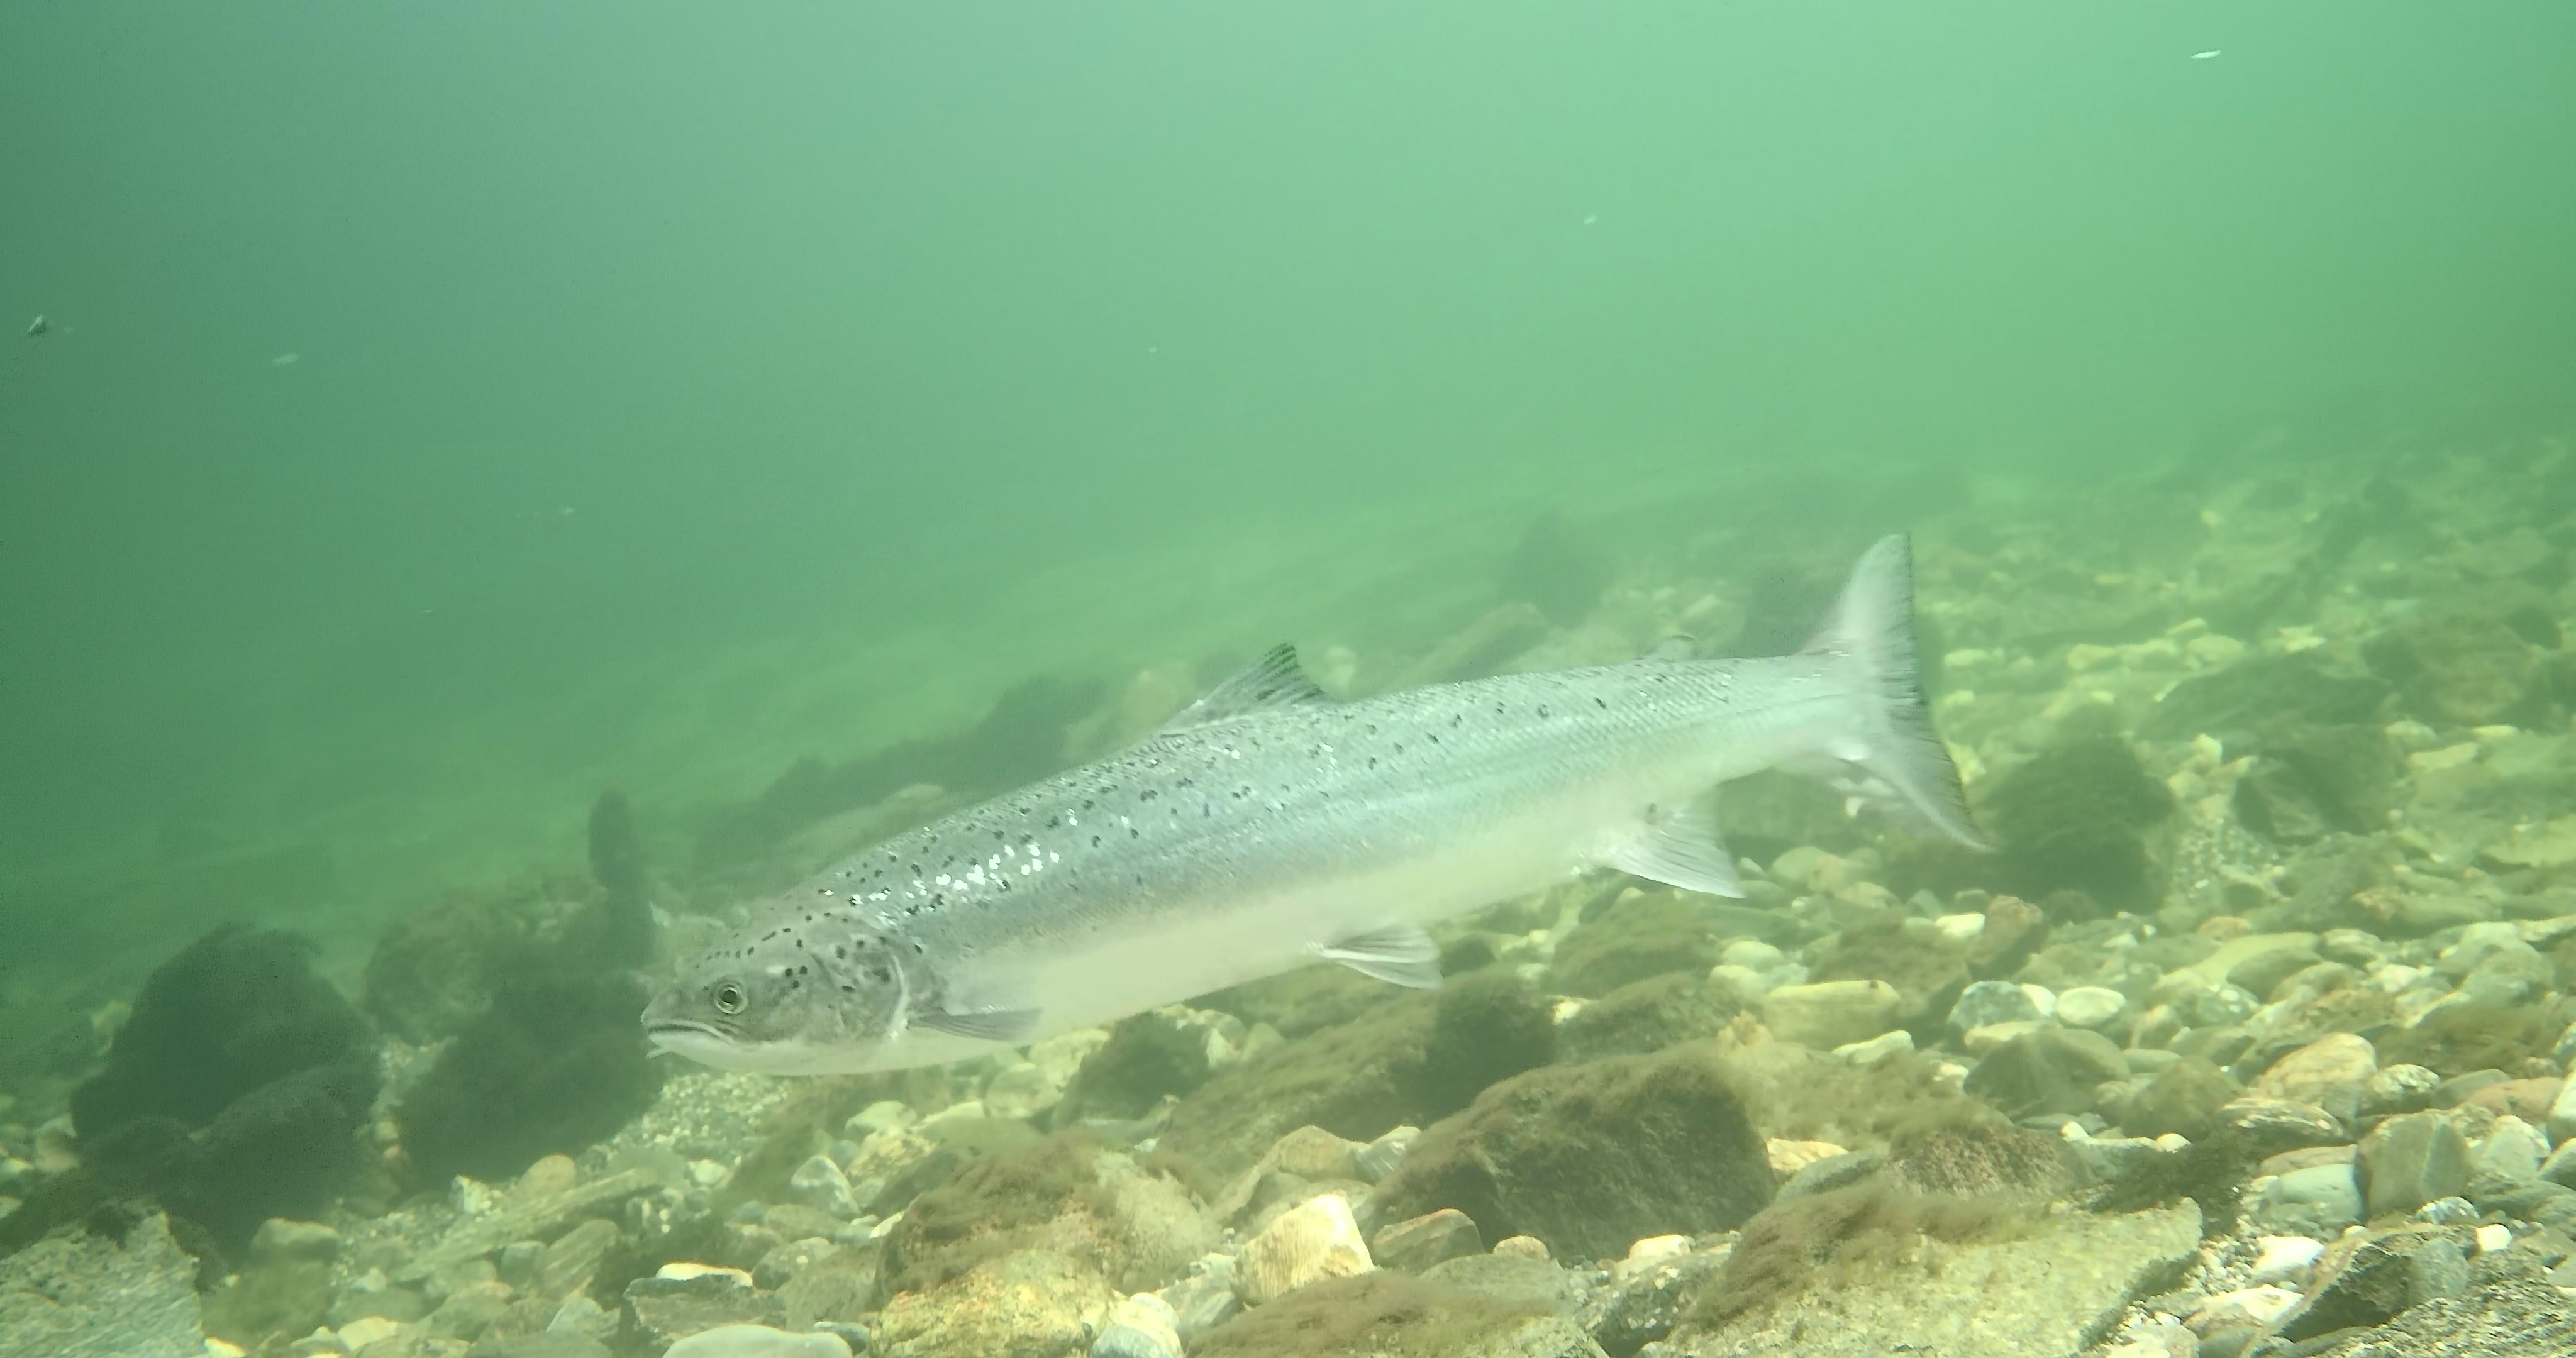salmon: (630, 523, 1992, 1085)
